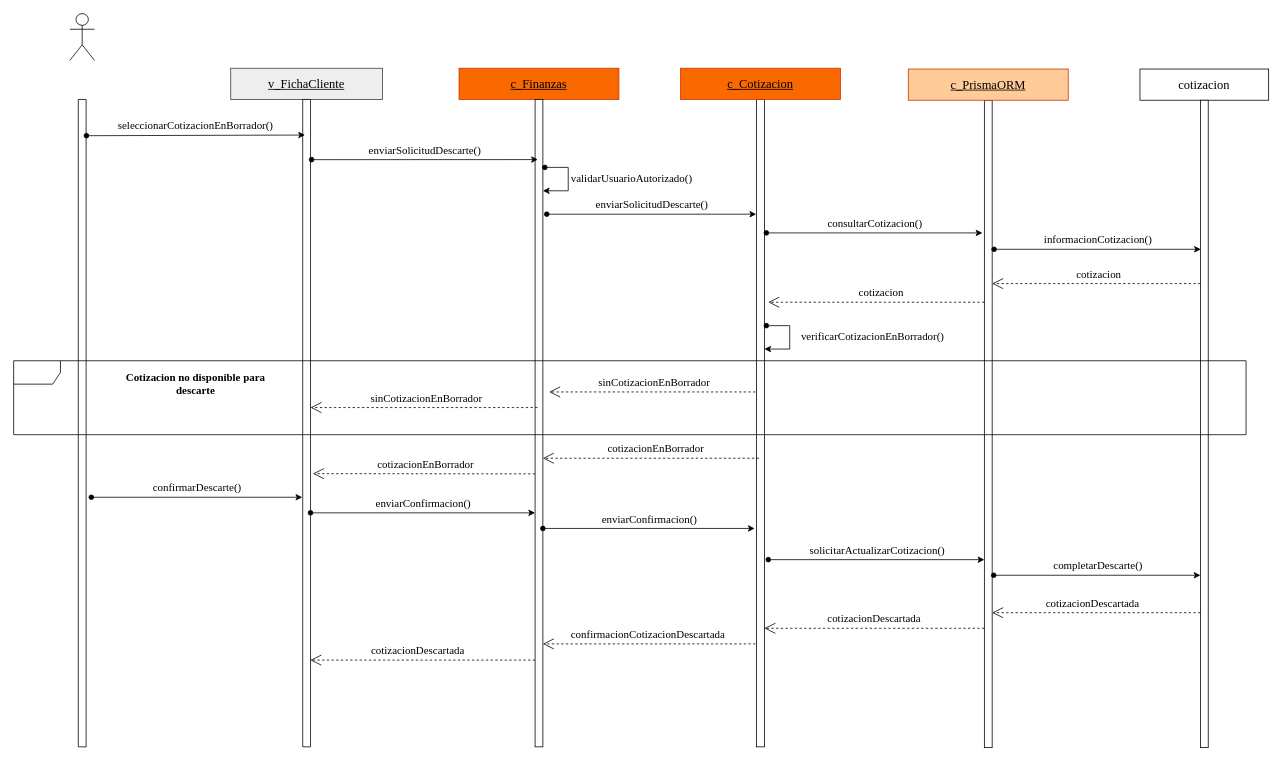
Some shapes in this 1282 by 761 pixel diagram are drawn without their labels. Here are the shapes that lost their labels. From the top down, the centre of each, then its label:
At point (82, 36): "Usuario Autorizado Gerencia o Secretaria".
At point (629, 397): "Exc1".
